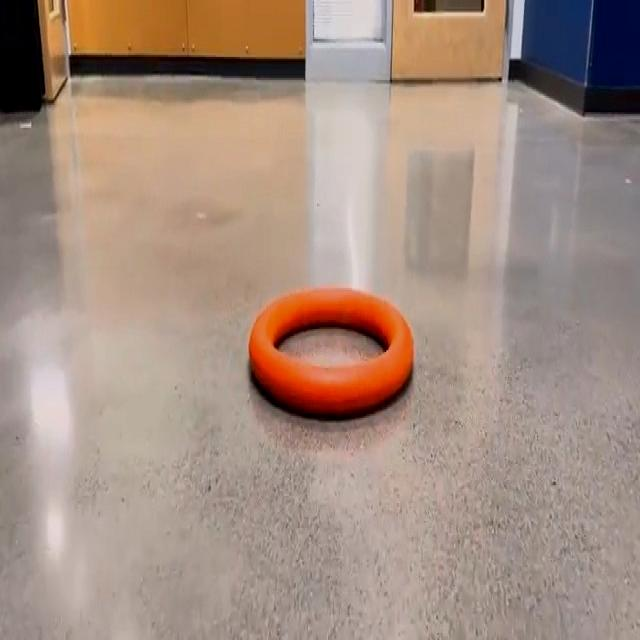note: (249, 287, 414, 416)
